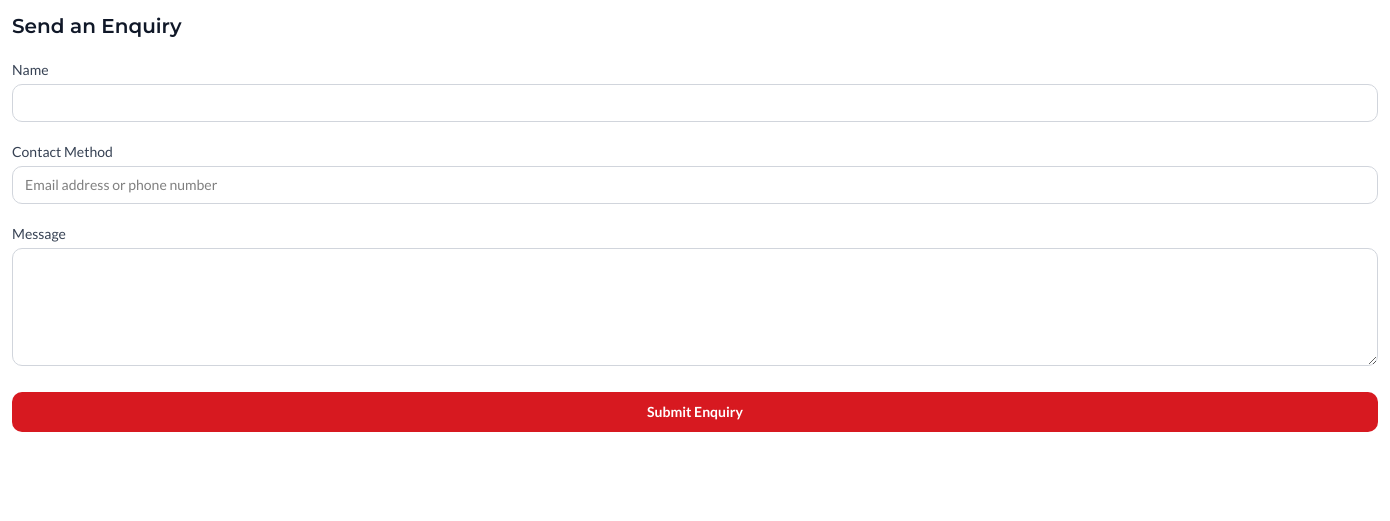
Test case: EnquiryForm › should show validation error for empty name
The image size is (1390, 521).
Click the button "Submit Enquiry" at (695, 412), box [12, 392, 1378, 432]
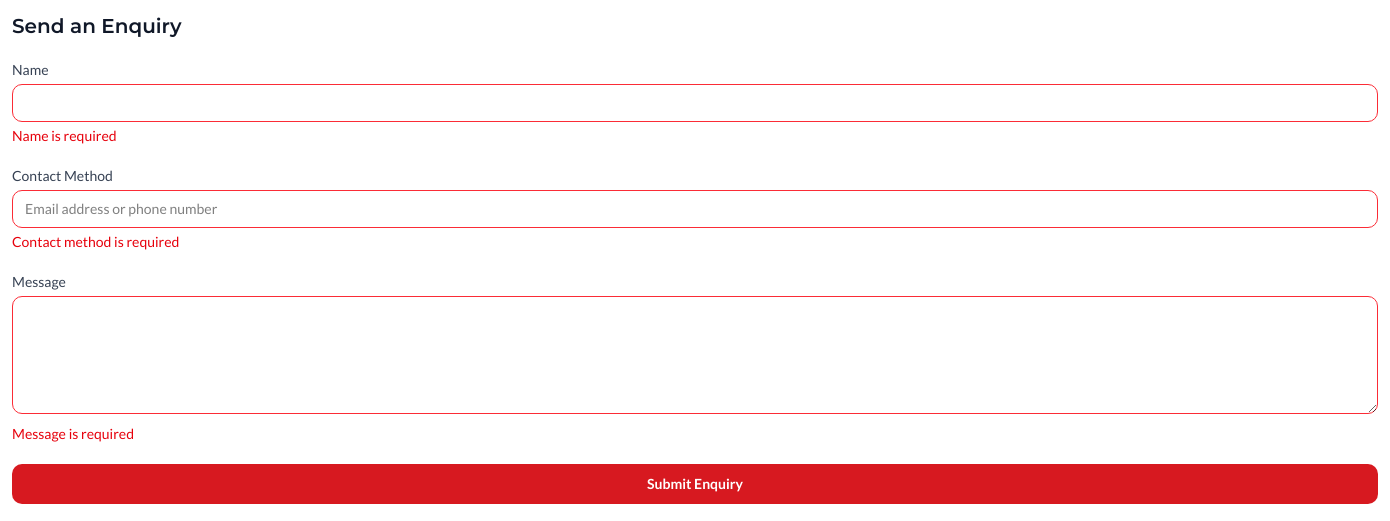
Expected: the text "Name is required" is shown, [12, 127, 117, 144]
